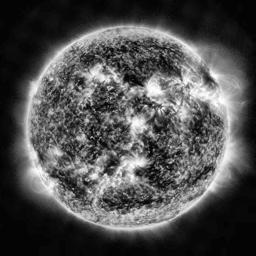solar flares: (190, 81, 222, 105), (82, 66, 117, 83), (146, 78, 164, 107), (129, 116, 149, 135), (124, 157, 156, 168)
sunspots: (57, 171, 85, 201), (140, 58, 180, 78), (137, 168, 166, 191), (150, 140, 173, 167), (87, 89, 117, 108), (114, 194, 158, 206), (121, 70, 146, 88), (77, 47, 103, 64), (92, 132, 112, 150), (110, 47, 135, 61), (194, 109, 207, 134), (152, 119, 170, 133), (103, 158, 120, 172), (199, 164, 213, 175)
